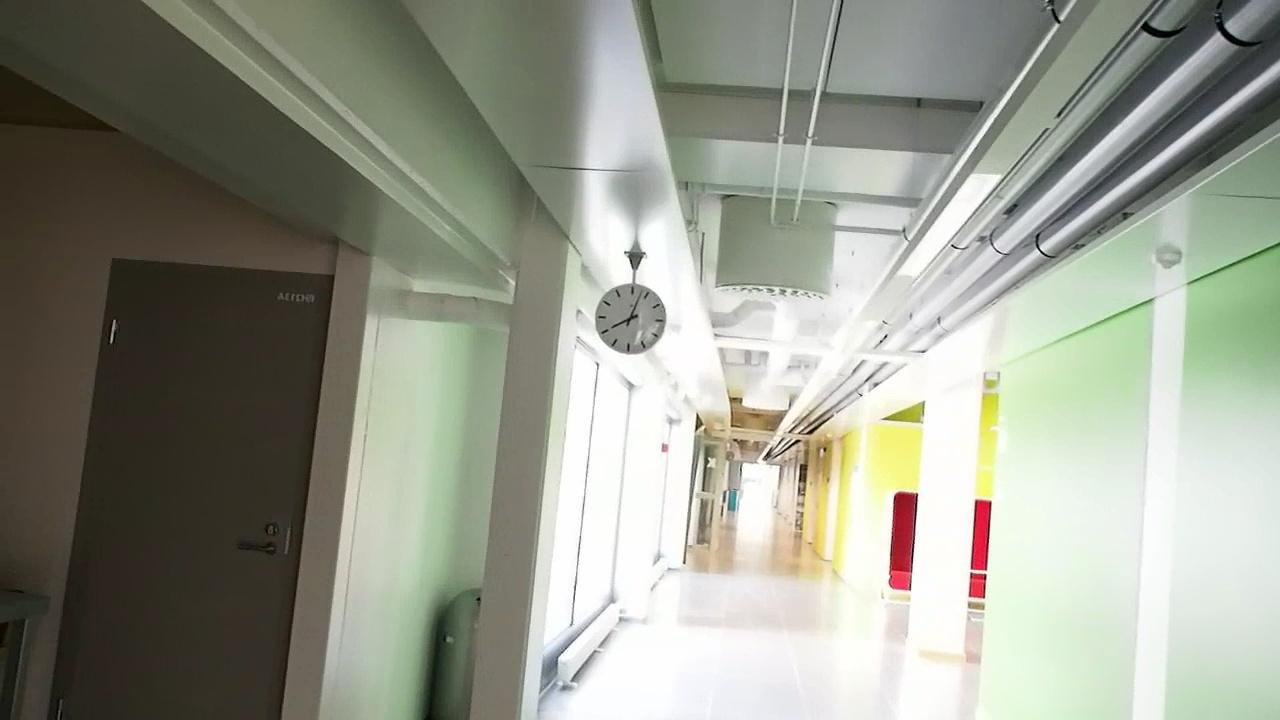clock: (592, 285, 670, 352)
